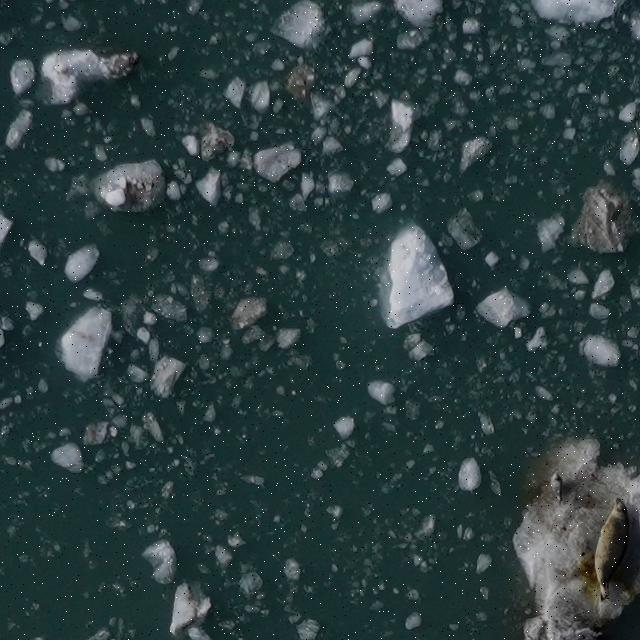seal: (591, 492, 632, 605)
